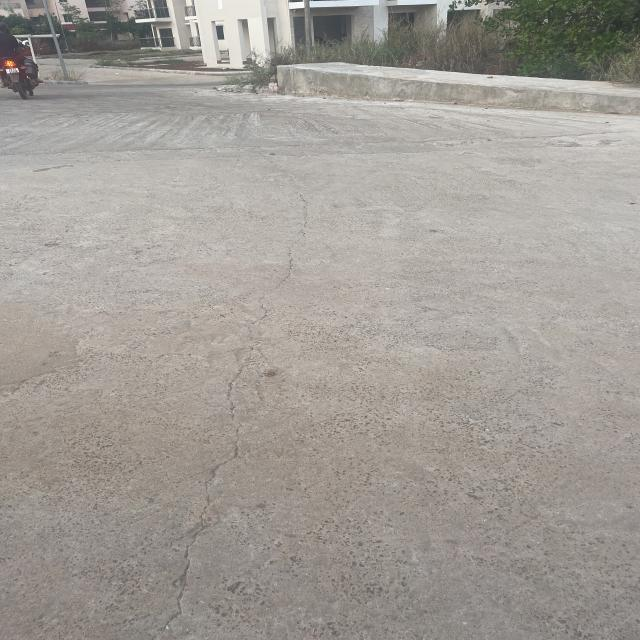D40: (128, 115, 353, 569)
